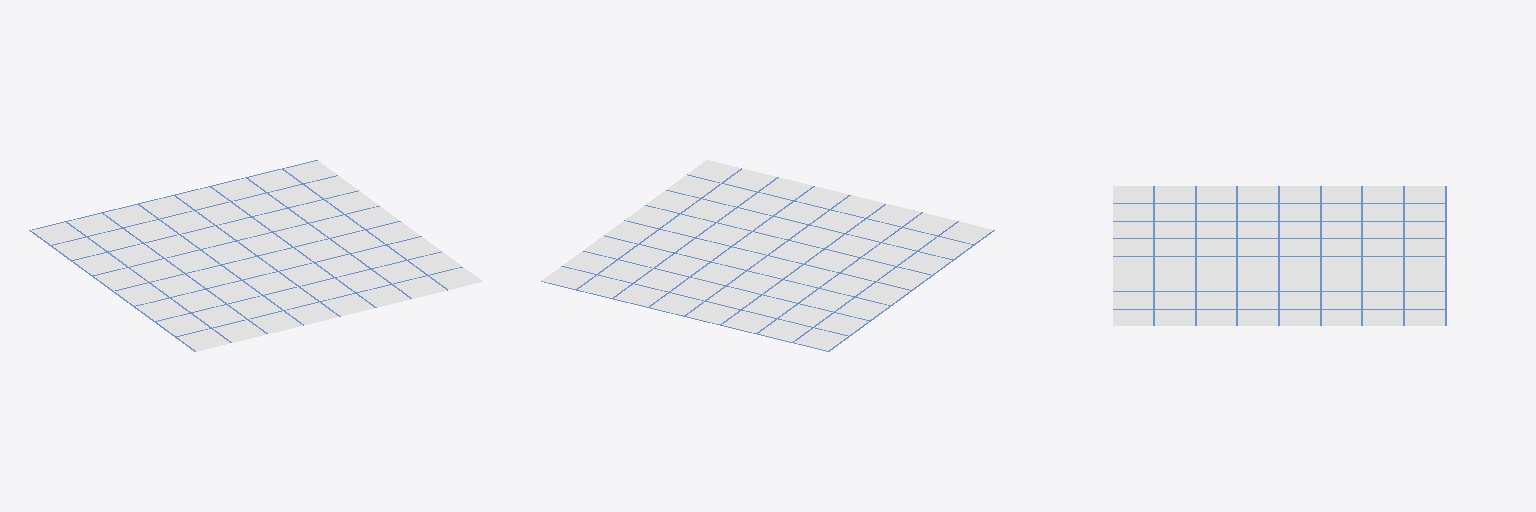
3 renders of one model, left to right at view 1: azimuth 30°, elevation 25°; view 2: azimuth 150°, elevation 25°; view 3: azimuth 270°, elevation 25°, orthographic.
Parts seen in each view (by area): view 1: Plane; view 2: Plane; view 3: Plane.
Boxes of the visible parts, box(x1,y1,x2,y2) form: Plane: box(29, 160, 482, 351); Plane: box(541, 160, 994, 351); Plane: box(1113, 186, 1446, 325).
Size of the model in its own units: 8 by 0 by 8.
Materials: 1 (1 with a texture image).